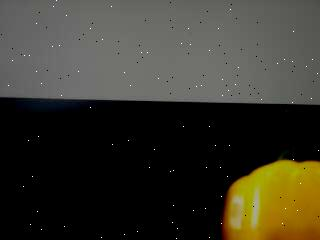Capsicum: (218, 144, 320, 240)
